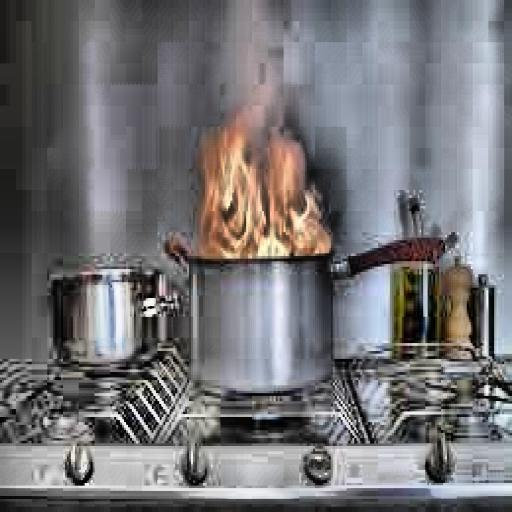fire: (187, 118, 341, 266)
